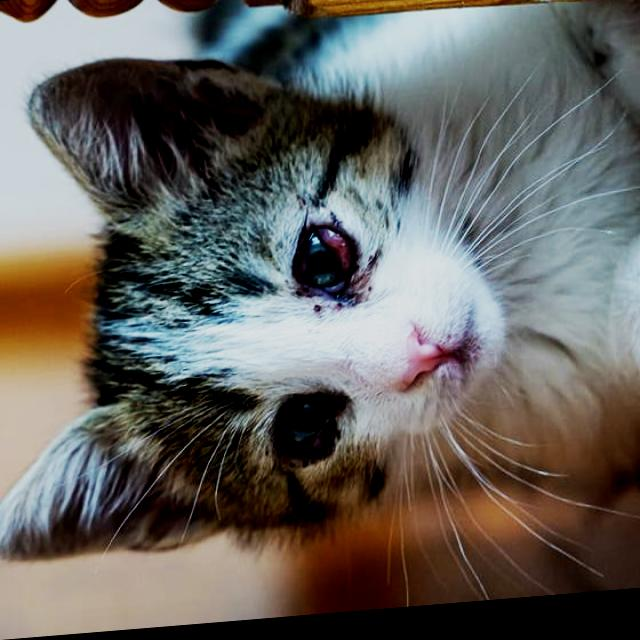eye_infection: (273, 388, 352, 471), (293, 205, 359, 298)
